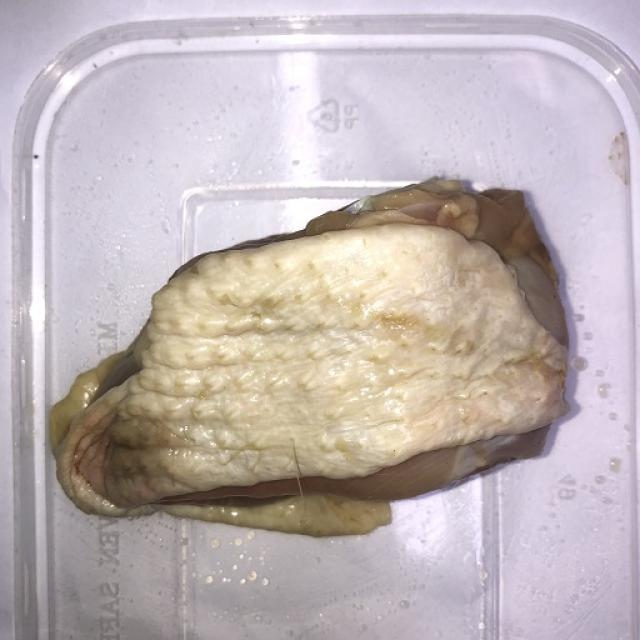chicken: (47, 176, 570, 537)
